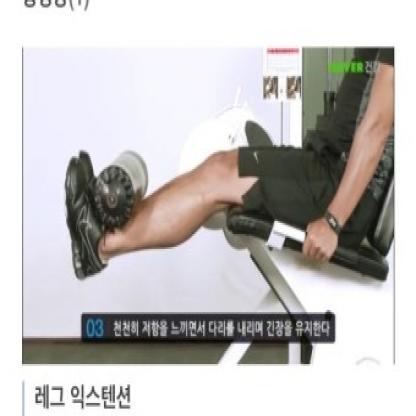leg extension: (55, 47, 397, 369)
